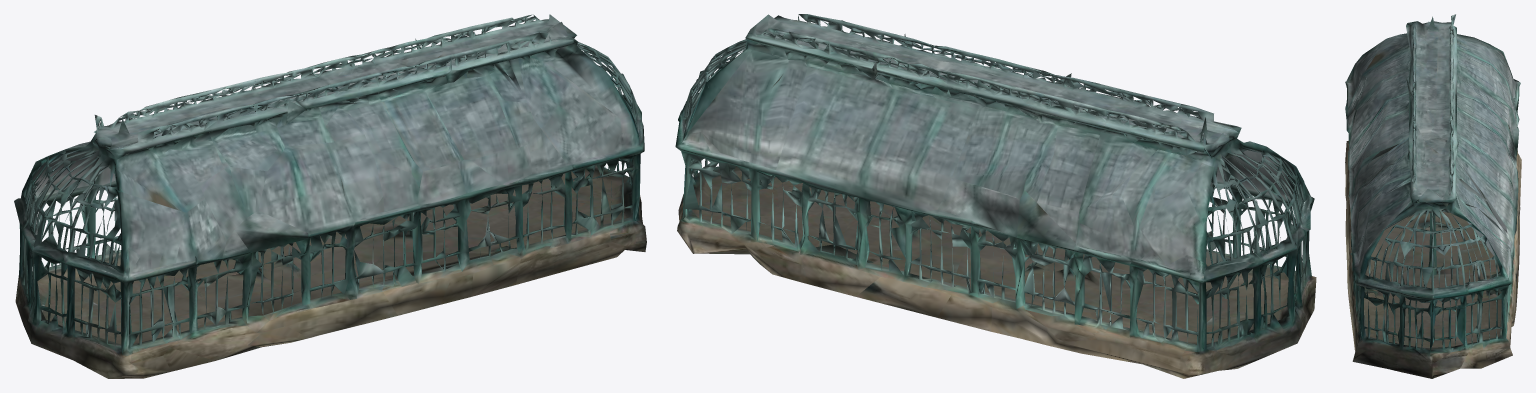
File: mal_gewaechshaus.glb
3 views of the same model, side by side, from view 1: azimuth 30°, elevation 25°; view 2: azimuth 150°, elevation 25°; view 3: azimuth 270°, elevation 25° (orthographic). The views are drawn at different scales.
Parts seen in each view (by area): view 1: tripo_node_c434062e-32f0-43e1-950e-a2e5db239ae0; view 2: tripo_node_c434062e-32f0-43e1-950e-a2e5db239ae0; view 3: tripo_node_c434062e-32f0-43e1-950e-a2e5db239ae0.
Boxes of the visible parts, x1,y1,x2,y2 form: tripo_node_c434062e-32f0-43e1-950e-a2e5db239ae0: (14,14,646,378); tripo_node_c434062e-32f0-43e1-950e-a2e5db239ae0: (675,14,1316,378); tripo_node_c434062e-32f0-43e1-950e-a2e5db239ae0: (1345,14,1521,378).
Size of the model in its own units: 0.99 by 0.3275 by 0.3171.
1 material, 1 textured.
